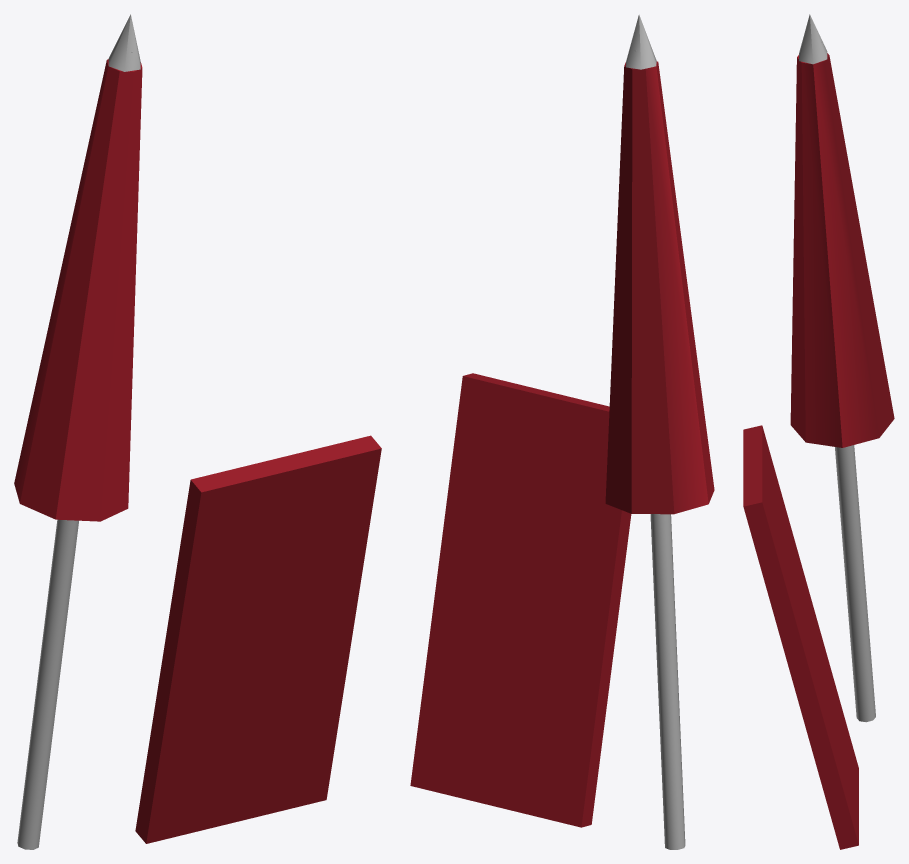
The model's file is sombrilla_cerrada.glb.
3 renders of one model, left to right at view 1: azimuth 30°, elevation 25°; view 2: azimuth 150°, elevation 25°; view 3: azimuth 270°, elevation 25°, orthographic. The views are drawn at different scales.
Visible parts, largest first — view 1: sombrilla_cerrada_Malla; view 2: sombrilla_cerrada_Malla; view 3: sombrilla_cerrada_Malla.
Boxes of the visible parts, box(x1,y1,x2,y2) form: sombrilla_cerrada_Malla: box(14, 14, 381, 849); sombrilla_cerrada_Malla: box(410, 14, 714, 849); sombrilla_cerrada_Malla: box(743, 14, 894, 849).
Size of the model in its own units: 0.9476 by 2.52 by 0.4642.
